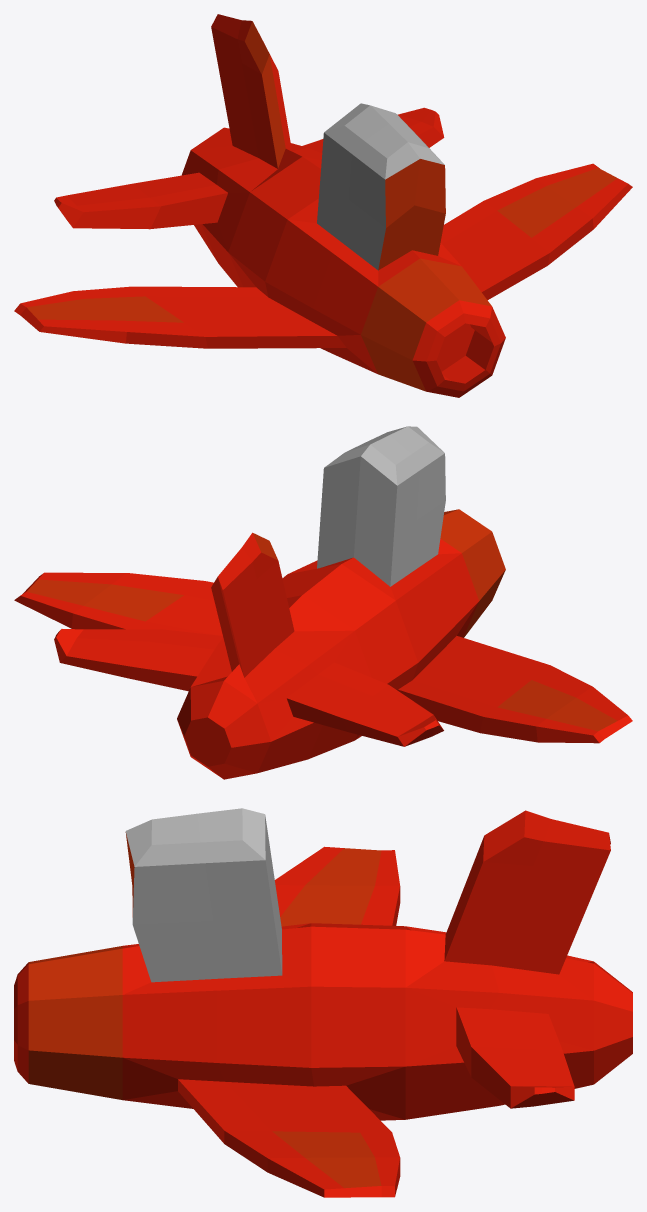
File: avion_cuerpo.obj
The picture shows the model from 3 angles, top to bottom: view 1: azimuth 30°, elevation 25°; view 2: azimuth 150°, elevation 25°; view 3: azimuth 270°, elevation 25°; orthographic projection. The views are drawn at different scales.
Visible parts, largest first — view 1: Cylinder; view 2: Cylinder; view 3: Cylinder.
Part boxes in pixels (x1,y1,x2,y2): Cylinder: [14, 14, 632, 397]; Cylinder: [14, 426, 632, 779]; Cylinder: [14, 808, 632, 1197].
Size of the model in its own units: 10.03 by 4.18 by 7.53.
